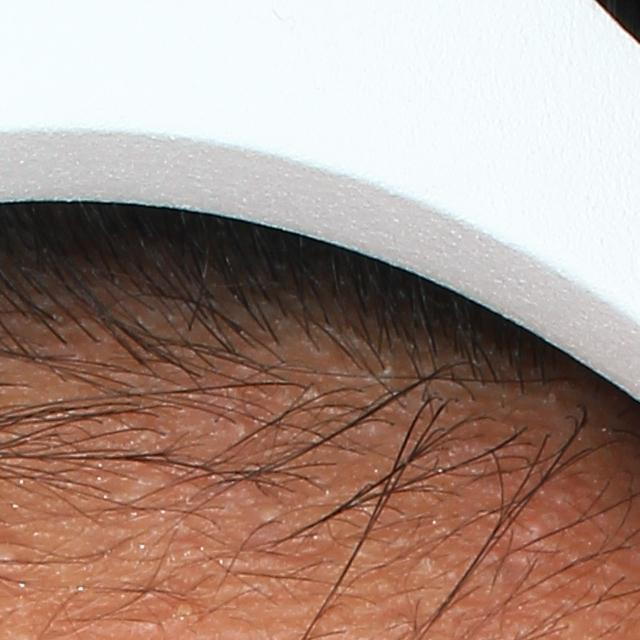comedo: (220, 552, 305, 579), (513, 515, 553, 559), (164, 596, 201, 627), (252, 500, 282, 528), (227, 415, 254, 446), (412, 550, 442, 577)
